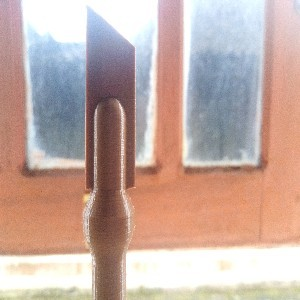cutter: (80, 5, 137, 300)
